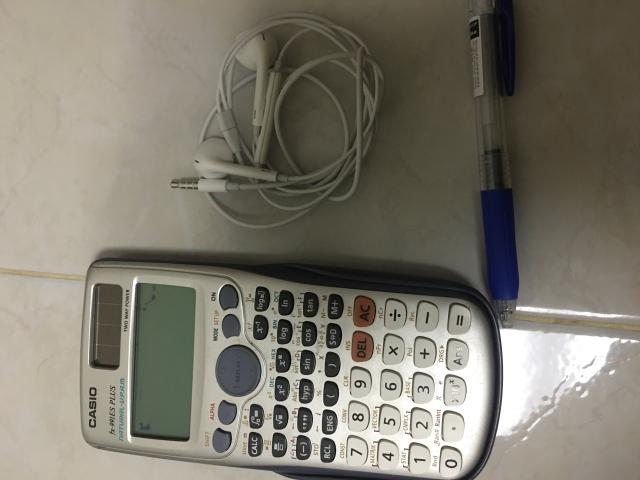Pen: (469, 0, 519, 328)
wire: (171, 12, 384, 229)
